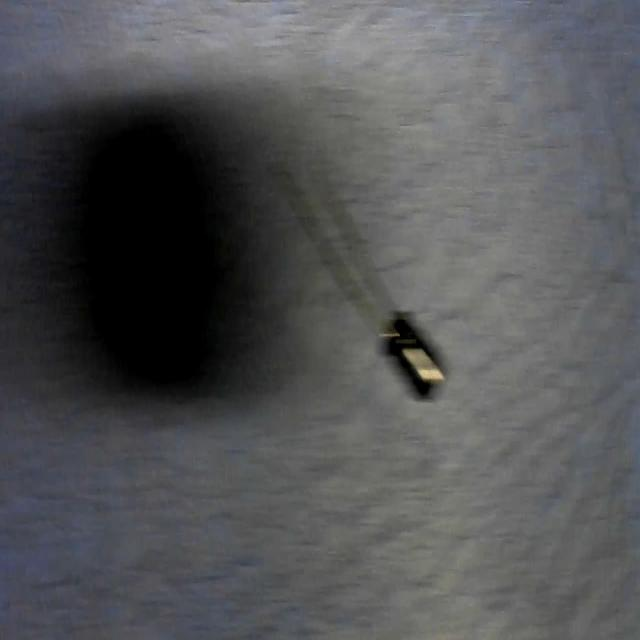capacitor: (281, 170, 439, 408)
